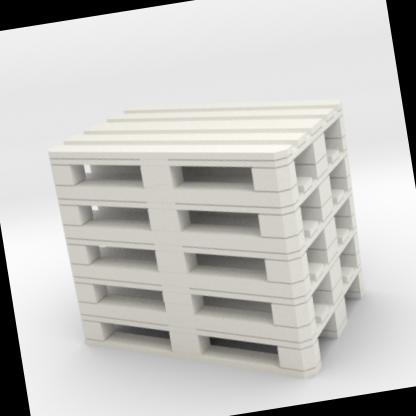BoxFace: (76, 260, 367, 381), (41, 96, 350, 208), (61, 189, 363, 295), (51, 157, 356, 252)
